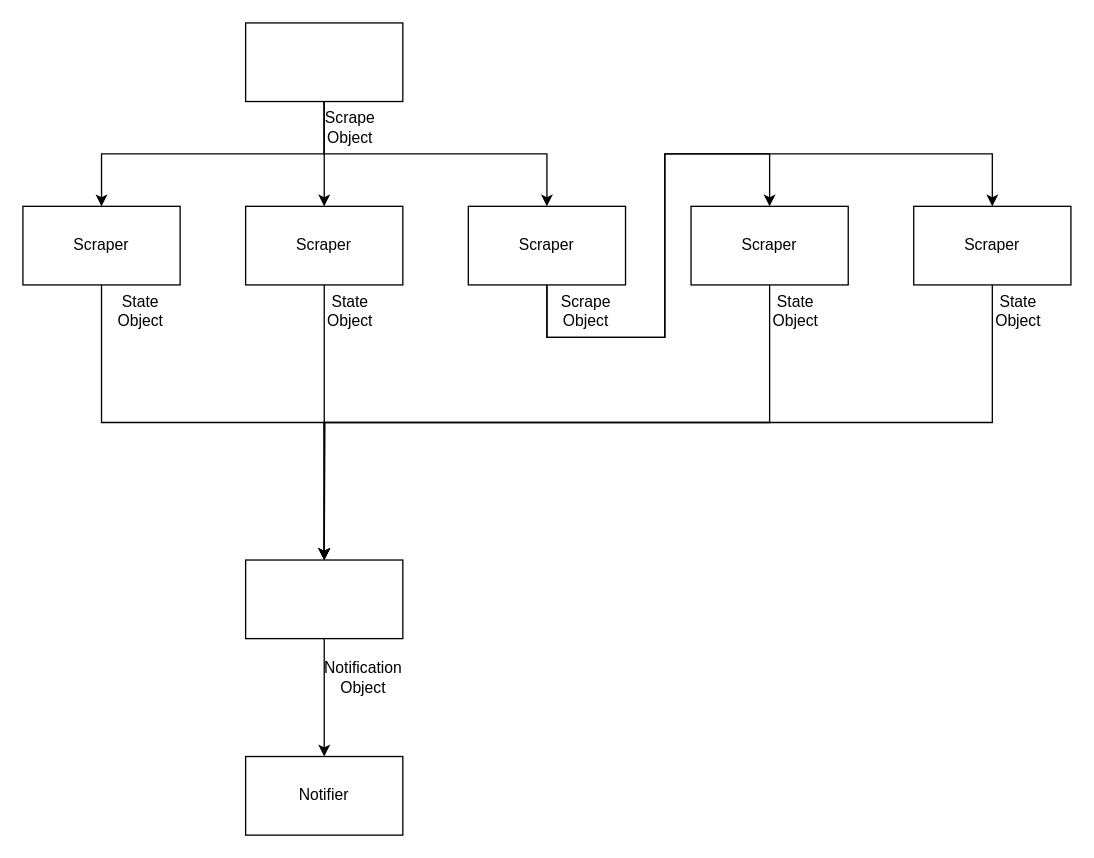
Image size: 1094x858. Some labels were removed from this diagram. Each missing label, with the box of its shape:
Fanout: (244, 22, 403, 102)
StateProcessor: (244, 559, 403, 639)
